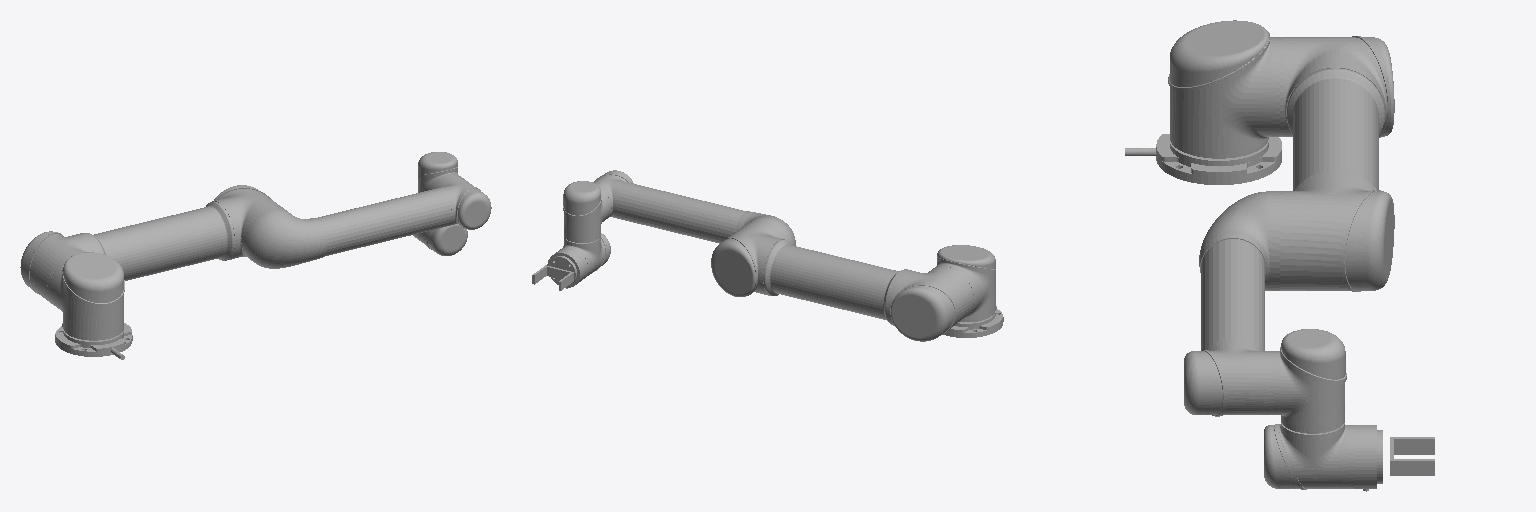
robot.urdf — ur5:
<?xml version="1.0" ?>
<!-- =================================================================================== -->
<!-- |    This document was autogenerated by xacro from [local-path]/devel/isae/install/share/hpp_practicals/urdf/ur5_joint_limited_robot.urdf.xacro | -->
<!-- |    EDITING THIS FILE BY HAND IS NOT RECOMMENDED                                 | -->
<!-- =================================================================================== -->
<robot name="ur5" xmlns:xacro="http://www.ros.org/wiki/xacro">
  <!-- common stuff -->
  <gazebo>
    <plugin filename="libgazebo_ros_control.so" name="ros_control">
      <!--robotNamespace>/</robotNamespace-->
      <!--robotSimType>gazebo_ros_control/DefaultRobotHWSim</robotSimType-->
    </plugin>
    <!--
    <plugin name="gazebo_ros_power_monitor_controller" filename="libgazebo_ros_power_monitor.so">
      <alwaysOn>true</alwaysOn>
      <updateRate>1.0</updateRate>
      <timeout>5</timeout>
      <powerStateTopic>power_state</powerStateTopic>
      <powerStateRate>10.0</powerStateRate>
      <fullChargeCapacity>87.78</fullChargeCapacity>     
      <dischargeRate>-474</dischargeRate>
      <chargeRate>525</chargeRate>
      <dischargeVoltage>15.52</dischargeVoltage>
      <chargeVoltage>16.41</chargeVoltage>
    </plugin>
-->
  </gazebo>
  <!-- ur5 -->
  <!-- Inertia parameters -->
  <!-- This mass might be incorrect -->
  <!-- Kinematic model -->
  <!-- Properties from urcontrol.conf -->
  <!--
    DH for UR5:
    a = [0.00000, -0.42500, -0.39225,  0.00000,  0.00000,  0.0000]
    d = [0.089159,  0.00000,  0.00000,  0.10915,  0.09465,  0.0823]
    alpha = [ 1.570796327, 0, 0, 1.570796327, -1.570796327, 0 ]
    q_home_offset = [0, -1.570796327, 0, -1.570796327, 0, 0]
    joint_direction = [-1, -1, 1, 1, 1, 1]
    mass = [3.7000, 8.3930, 2.2750, 1.2190, 1.2190, 0.1879]
    center_of_mass = [ [0, -0.02561, 0.00193], [0.2125, 0, 0.11336], [0.11993, 0.0, 0.0265], [0, -0.0018, 0.01634], [0, 0.0018,0.01634], [0, 0, -0.001159] ]
  -->
  <!-- Arbitrary offsets for shoulder/elbow joints -->
  <!-- measured from model -->
  <!-- measured from model -->
  <!-- link lengths used in model -->
  <!--property name="shoulder_height" value="0.089159" /-->
  <!--property name="shoulder_offset" value="0.13585" /-->
  <!-- shoulder_offset - elbow_offset + wrist_1_length = 0.10915 -->
  <!--property name="upper_arm_length" value="0.42500" /-->
  <!--property name="elbow_offset" value="0.1197" /-->
  <!-- CAD measured -->
  <!--property name="forearm_length" value="0.39225" /-->
  <!--property name="wrist_1_length" value="0.093" /-->
  <!-- CAD measured -->
  <!--property name="wrist_2_length" value="0.09465" /-->
  <!-- In CAD this distance is 0.930, but in the spec it is 0.09465 -->
  <!--property name="wrist_3_length" value="0.0823" /-->
  <!-- manually measured -->
  <!-- manually measured -->
  <!-- manually measured -->
  <!-- manually measured -->
  <!-- manually measured -->
  <!-- arm -->
  <link name="base_link">
    <visual>
      <geometry>
        <mesh filename="package://hpp_practicals/meshes/ur5/visual/base.dae"/>
      </geometry>
      <material name="LightGrey">
        <color rgba="0.7 0.7 0.7 1.0"/>
      </material>
    </visual>
    <collision>
      <geometry>
        <mesh filename="package://hpp_practicals/meshes/ur5/collision/base.stl"/>
      </geometry>
    </collision>
    <inertial>
      <mass value="4.0"/>
      <origin rpy="0 0 0" xyz="0.0 0.0 0.0"/>
      <inertia ixx="0.00443333156" ixy="0.0" ixz="0.0" iyy="0.00443333156" iyz="0.0" izz="0.0072"/>
    </inertial>
  </link>
  <joint name="shoulder_pan_joint" type="revolute">
    <parent link="base_link"/>
    <child link="shoulder_link"/>
    <origin rpy="0.0 0.0 0.0" xyz="0.0 0.0 0.089159"/>
    <axis xyz="0 0 1"/>
    <limit effort="150.0" lower="-3.14159265" upper="3.14159265" velocity="3.15"/>
    <dynamics damping="0.0" friction="0.0"/>
  </joint>
  <link name="shoulder_link">
    <visual>
      <geometry>
        <mesh filename="package://hpp_practicals/meshes/ur5/visual/shoulder.dae"/>
      </geometry>
      <material name="LightGrey">
        <color rgba="0.7 0.7 0.7 1.0"/>
      </material>
    </visual>
    <collision>
      <geometry>
        <mesh filename="package://hpp_practicals/meshes/ur5/collision/shoulder.stl"/>
      </geometry>
    </collision>
    <inertial>
      <mass value="3.7"/>
      <origin rpy="0 0 0" xyz="0.0 0.0 0.0"/>
      <inertia ixx="0.010267495893" ixy="0.0" ixz="0.0" iyy="0.010267495893" iyz="0.0" izz="0.00666"/>
    </inertial>
  </link>
  <joint name="shoulder_lift_joint" type="revolute">
    <parent link="shoulder_link"/>
    <child link="upper_arm_link"/>
    <origin rpy="0.0 1.570796325 0.0" xyz="0.0 0.13585 0.0"/>
    <axis xyz="0 1 0"/>
    <limit effort="150.0" lower="-3.14159265" upper="3.14159265" velocity="3.15"/>
    <dynamics damping="0.0" friction="0.0"/>
  </joint>
  <link name="upper_arm_link">
    <visual>
      <geometry>
        <mesh filename="package://hpp_practicals/meshes/ur5/visual/upperarm.dae"/>
      </geometry>
      <material name="LightGrey">
        <color rgba="0.7 0.7 0.7 1.0"/>
      </material>
    </visual>
    <collision>
      <geometry>
        <mesh filename="package://hpp_practicals/meshes/ur5/collision/upperarm.stl"/>
      </geometry>
    </collision>
    <inertial>
      <mass value="8.393"/>
      <origin rpy="0 0 0" xyz="0.0 0.0 0.28"/>
      <inertia ixx="0.22689067591" ixy="0.0" ixz="0.0" iyy="0.22689067591" iyz="0.0" izz="0.0151074"/>
    </inertial>
  </link>
  <joint name="elbow_joint" type="revolute">
    <parent link="upper_arm_link"/>
    <child link="forearm_link"/>
    <origin rpy="0.0 0.0 0.0" xyz="0.0 -0.1197 0.425"/>
    <axis xyz="0 1 0"/>
    <limit effort="150.0" lower="-3.14159265" upper="3.14159265" velocity="3.15"/>
    <dynamics damping="0.0" friction="0.0"/>
  </joint>
  <link name="forearm_link">
    <visual>
      <geometry>
        <mesh filename="package://hpp_practicals/meshes/ur5/visual/forearm.dae"/>
      </geometry>
      <material name="LightGrey">
        <color rgba="0.7 0.7 0.7 1.0"/>
      </material>
    </visual>
    <collision>
      <geometry>
        <mesh filename="package://hpp_practicals/meshes/ur5/collision/forearm.stl"/>
      </geometry>
    </collision>
    <inertial>
      <mass value="2.275"/>
      <origin rpy="0 0 0" xyz="0.0 0.0 0.25"/>
      <inertia ixx="0.049443313556" ixy="0.0" ixz="0.0" iyy="0.049443313556" iyz="0.0" izz="0.004095"/>
    </inertial>
  </link>
  <joint name="wrist_1_joint" type="revolute">
    <parent link="forearm_link"/>
    <child link="wrist_1_link"/>
    <origin rpy="0.0 1.570796325 0.0" xyz="0.0 0.0 0.39225"/>
    <axis xyz="0 1 0"/>
    <limit effort="28.0" lower="-3.14159265" upper="3.14159265" velocity="3.2"/>
    <dynamics damping="0.0" friction="0.0"/>
  </joint>
  <link name="wrist_1_link">
    <visual>
      <geometry>
        <mesh filename="package://hpp_practicals/meshes/ur5/visual/wrist1.dae"/>
      </geometry>
      <material name="LightGrey">
        <color rgba="0.7 0.7 0.7 1.0"/>
      </material>
    </visual>
    <collision>
      <geometry>
        <mesh filename="package://hpp_practicals/meshes/ur5/collision/wrist1.stl"/>
      </geometry>
    </collision>
    <inertial>
      <mass value="1.219"/>
      <origin rpy="0 0 0" xyz="0.0 0.0 0.0"/>
      <inertia ixx="0.111172755531" ixy="0.0" ixz="0.0" iyy="0.111172755531" iyz="0.0" izz="0.21942"/>
    </inertial>
  </link>
  <joint name="wrist_2_joint" type="revolute">
    <parent link="wrist_1_link"/>
    <child link="wrist_2_link"/>
    <origin rpy="0.0 0.0 0.0" xyz="0.0 0.093 0.0"/>
    <axis xyz="0 0 1"/>
    <limit effort="28.0" lower="-3.14159265" upper="3.14159265" velocity="3.2"/>
    <dynamics damping="0.0" friction="0.0"/>
  </joint>
  <link name="wrist_2_link">
    <visual>
      <geometry>
        <mesh filename="package://hpp_practicals/meshes/ur5/visual/wrist2.dae"/>
      </geometry>
      <material name="LightGrey">
        <color rgba="0.7 0.7 0.7 1.0"/>
      </material>
    </visual>
    <collision>
      <geometry>
        <mesh filename="package://hpp_practicals/meshes/ur5/collision/wrist2.stl"/>
      </geometry>
    </collision>
    <inertial>
      <mass value="1.219"/>
      <origin rpy="0 0 0" xyz="0.0 0.0 0.0"/>
      <inertia ixx="0.111172755531" ixy="0.0" ixz="0.0" iyy="0.111172755531" iyz="0.0" izz="0.21942"/>
    </inertial>
  </link>
  <joint name="wrist_3_joint" type="revolute">
    <parent link="wrist_2_link"/>
    <child link="wrist_3_link"/>
    <origin rpy="0.0 0.0 0.0" xyz="0.0 0.0 0.09465"/>
    <axis xyz="0 1 0"/>
    <limit effort="28.0" lower="-3.14159265" upper="3.14159265" velocity="3.2"/>
    <dynamics damping="0.0" friction="0.0"/>
  </joint>
  <link name="wrist_3_link">
    <visual>
      <geometry>
        <mesh filename="package://hpp_practicals/meshes/ur5/visual/wrist3.dae"/>
      </geometry>
      <material name="LightGrey">
        <color rgba="0.7 0.7 0.7 1.0"/>
      </material>
    </visual>
    <collision>
      <geometry>
        <mesh filename="package://hpp_practicals/meshes/ur5/collision/wrist3.stl"/>
      </geometry>
    </collision>
    <inertial>
      <mass value="0.1879"/>
      <origin rpy="0 0 0" xyz="0.0 0.0 0.0"/>
      <inertia ixx="0.0171364731454" ixy="0.0" ixz="0.0" iyy="0.0171364731454" iyz="0.0" izz="0.033822"/>
    </inertial>
  </link>
  <joint name="ee_fixed_joint" type="fixed">
    <parent link="wrist_3_link"/>
    <child link="ee_link"/>
    <origin rpy="0.0 0.0 1.570796325" xyz="0.0 0.0823 0.0"/>
  </joint>
  <link name="ee_link">
    <collision>
      <geometry>
        <box size="0.01 0.01 0.01"/>
      </geometry>
      <origin rpy="0 0 0" xyz="-0.01 0 0"/>
    </collision>
  </link>
  <transmission name="shoulder_pan_trans">
    <type>transmission_interface/SimpleTransmission</type>
    <joint name="shoulder_pan_joint">
      <hardwareInterface>PositionJointInterface</hardwareInterface>
    </joint>
    <actuator name="shoulder_pan_motor">
      <mechanicalReduction>1</mechanicalReduction>
    </actuator>
  </transmission>
  <transmission name="shoulder_lift_trans">
    <type>transmission_interface/SimpleTransmission</type>
    <joint name="shoulder_lift_joint">
      <hardwareInterface>PositionJointInterface</hardwareInterface>
    </joint>
    <actuator name="shoulder_lift_motor">
      <mechanicalReduction>1</mechanicalReduction>
    </actuator>
  </transmission>
  <transmission name="elbow_trans">
    <type>transmission_interface/SimpleTransmission</type>
    <joint name="elbow_joint">
      <hardwareInterface>PositionJointInterface</hardwareInterface>
    </joint>
    <actuator name="elbow_motor">
      <mechanicalReduction>1</mechanicalReduction>
    </actuator>
  </transmission>
  <transmission name="wrist_1_trans">
    <type>transmission_interface/SimpleTransmission</type>
    <joint name="wrist_1_joint">
      <hardwareInterface>PositionJointInterface</hardwareInterface>
    </joint>
    <actuator name="wrist_1_motor">
      <mechanicalReduction>1</mechanicalReduction>
    </actuator>
  </transmission>
  <transmission name="wrist_2_trans">
    <type>transmission_interface/SimpleTransmission</type>
    <joint name="wrist_2_joint">
      <hardwareInterface>PositionJointInterface</hardwareInterface>
    </joint>
    <actuator name="wrist_2_motor">
      <mechanicalReduction>1</mechanicalReduction>
    </actuator>
  </transmission>
  <transmission name="wrist_3_trans">
    <type>transmission_interface/SimpleTransmission</type>
    <joint name="wrist_3_joint">
      <hardwareInterface>PositionJointInterface</hardwareInterface>
    </joint>
    <actuator name="wrist_3_motor">
      <mechanicalReduction>1</mechanicalReduction>
    </actuator>
  </transmission>
  <!-- nothing to do here at the moment -->
  <!-- ROS base_link to UR 'Base' Coordinates transform -->
  <link name="base"/>
  <joint name="base_link-base_fixed_joint" type="fixed">
    <!-- NOTE: this rotation is only needed as long as base_link itself is
                 not corrected wrt the real robot (ie: rotated over 180
                 degrees)
      -->
    <origin rpy="0 0 -3.14159265" xyz="0 0 0"/>
    <parent link="base_link"/>
    <child link="base"/>
  </joint>
  <!-- Frame coincident with all-zeros TCP on UR controller -->
  <link name="tool0">
    <visual>
      <geometry>
	<box size="0.005 0.02 0.05" />
      </geometry>
      <origin xyz="0.03 0 0.035" />
      <material name="LightGrey">
        <color rgba="0.7 0.7 0.7 1.0"/>
      </material>
    </visual>
    <visual>
      <geometry>
	<box size="0.005 0.02 0.05" />
      </geometry>
      <origin xyz="-0.03 0 0.035" />
      <material name="LightGrey">
        <color rgba="0.7 0.7 0.7 1.0"/>
      </material>
    </visual>
    <visual>
      <geometry>
	<box size="0.065 0.02 0.005" />
      </geometry>
      <origin xyz="0 0 0.01" />
      <material name="LightGrey">
        <color rgba="0.7 0.7 0.7 1.0"/>
      </material>
    </visual>

    <collision>
      <geometry>
	<box size="0.005 0.02 0.05" />
      </geometry>
      <origin xyz="0.03 0 0.035" />
    </collision>
    <collision>
      <geometry>
	<box size="0.005 0.02 0.05" />
      </geometry>
      <origin xyz="-0.03 0 0.035" />
    </collision>
    <collision>
      <geometry>
	<box size="0.065 0.02 0.005" />
      </geometry>
      <origin xyz="0 0 0.01" />
    </collision>
  </link>
  <joint name="wrist_3_link-tool0_fixed_joint" type="fixed">
    <origin rpy="-1.570796325 0 0" xyz="0 0.0823 0"/>
    <parent link="wrist_3_link"/>
    <child link="tool0"/>
  </joint>
  <link name="world"/>
  <joint name="world_joint" type="fixed">
    <parent link="world"/>
    <child link="base_link"/>
    <origin rpy="0.0 0.0 0.0" xyz="0.0 0.0 0.0"/>
  </joint>
</robot>

--- What the picture shows (computed from the rendered views, not written in the file) ---
The picture shows the robot from 3 angles, left to right: view 1: azimuth 30°, elevation 25°; view 2: azimuth 150°, elevation 25°; view 3: azimuth 270°, elevation 25°; orthographic projection.
Model ur5 with 11 links and 10 joints (6 revolute, 4 fixed), rooted at world, posed every joint at zero.
Visible links, largest first — view 1: upper_arm_link, forearm_link, shoulder_link, base_link, wrist_1_link, wrist_2_link; view 2: upper_arm_link, forearm_link, shoulder_link, wrist_1_link, wrist_2_link, base_link, wrist_3_link, tool0; view 3: upper_arm_link, forearm_link, shoulder_link, wrist_1_link, wrist_2_link, base_link, wrist_3_link, tool0.
Link boxes in pixels (box(x1,y1,x2,y2)): upper_arm_link: box(20, 185, 283, 305); forearm_link: box(243, 175, 491, 268); shoulder_link: box(49, 252, 124, 340); base_link: box(55, 323, 132, 359); wrist_1_link: box(418, 152, 458, 192); wrist_2_link: box(413, 224, 467, 255); upper_arm_link: box(711, 221, 973, 341); forearm_link: box(593, 170, 795, 245); shoulder_link: box(933, 245, 995, 321); wrist_1_link: box(563, 181, 609, 242); wrist_2_link: box(560, 233, 610, 278); base_link: box(943, 306, 1003, 337); wrist_3_link: box(547, 248, 586, 288); tool0: box(532, 265, 573, 290); upper_arm_link: box(1280, 36, 1394, 291); forearm_link: box(1184, 191, 1279, 416); shoulder_link: box(1168, 20, 1279, 158); wrist_1_link: box(1274, 329, 1346, 433); wrist_2_link: box(1264, 423, 1353, 489); base_link: box(1125, 134, 1281, 184); wrist_3_link: box(1354, 425, 1382, 491); tool0: box(1390, 437, 1434, 475).
Bounding box of the posed robot: 0.9295 × 0.3615 × 0.2062 m (x, y, z).
7 mesh visuals loaded from 7 distinct referenced files (7 Collada DAE).
